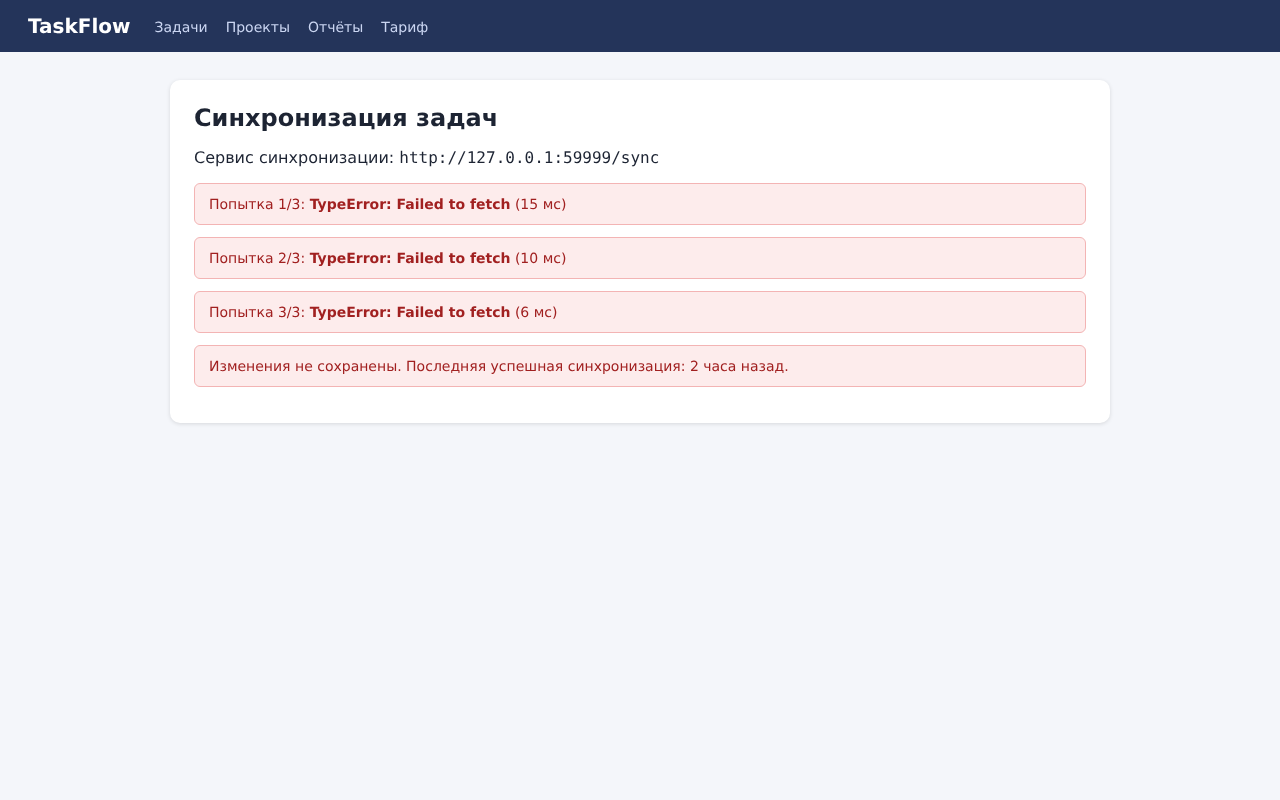ERROR_TEXT: (194, 183, 1086, 225), (194, 237, 1086, 279), (194, 291, 1086, 333), (194, 345, 1086, 387)
